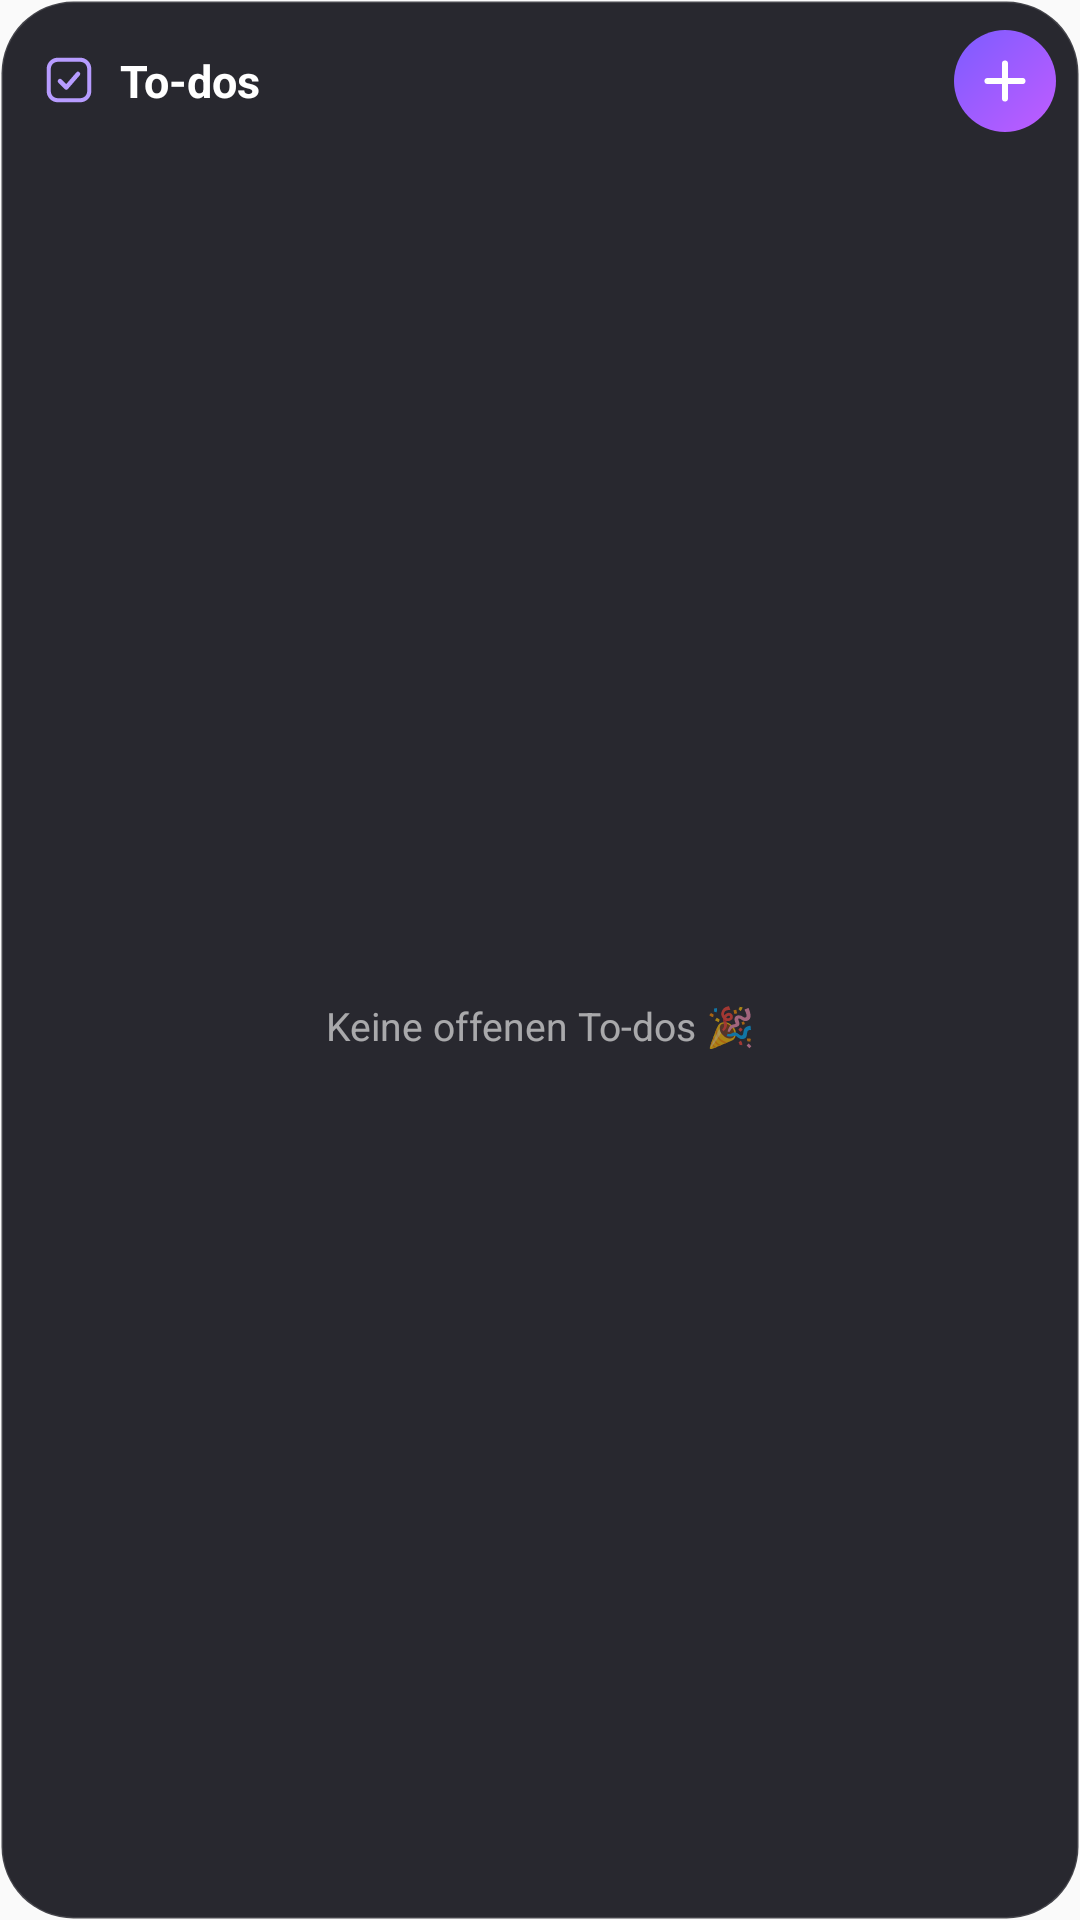

Screen size 1080 × 1920. Icon name, then its box in pixels as Rect(x1, y1, x2, y2):
Neues To-do: Rect(954, 30, 1056, 132)
widget check: Rect(46, 57, 92, 103)
